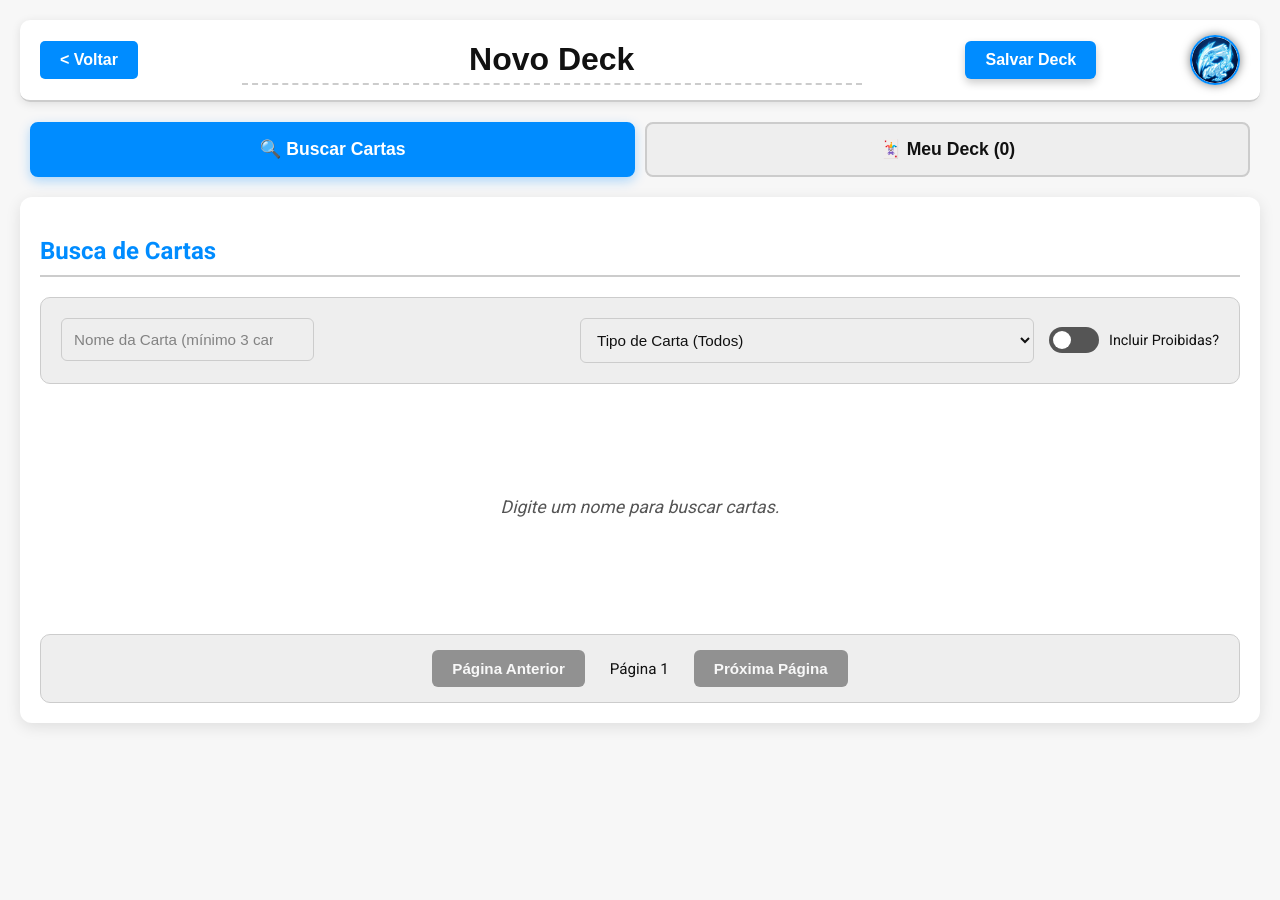
Integração: Criação de Deck › deve exibir mensagem de erro quando a API falha
Type "Dark Magician" into the field with placeholder "Nome da Carta (mínimo 3 caracteres)" at (188, 339), box [61,318,314,361]
Wait 800 ms
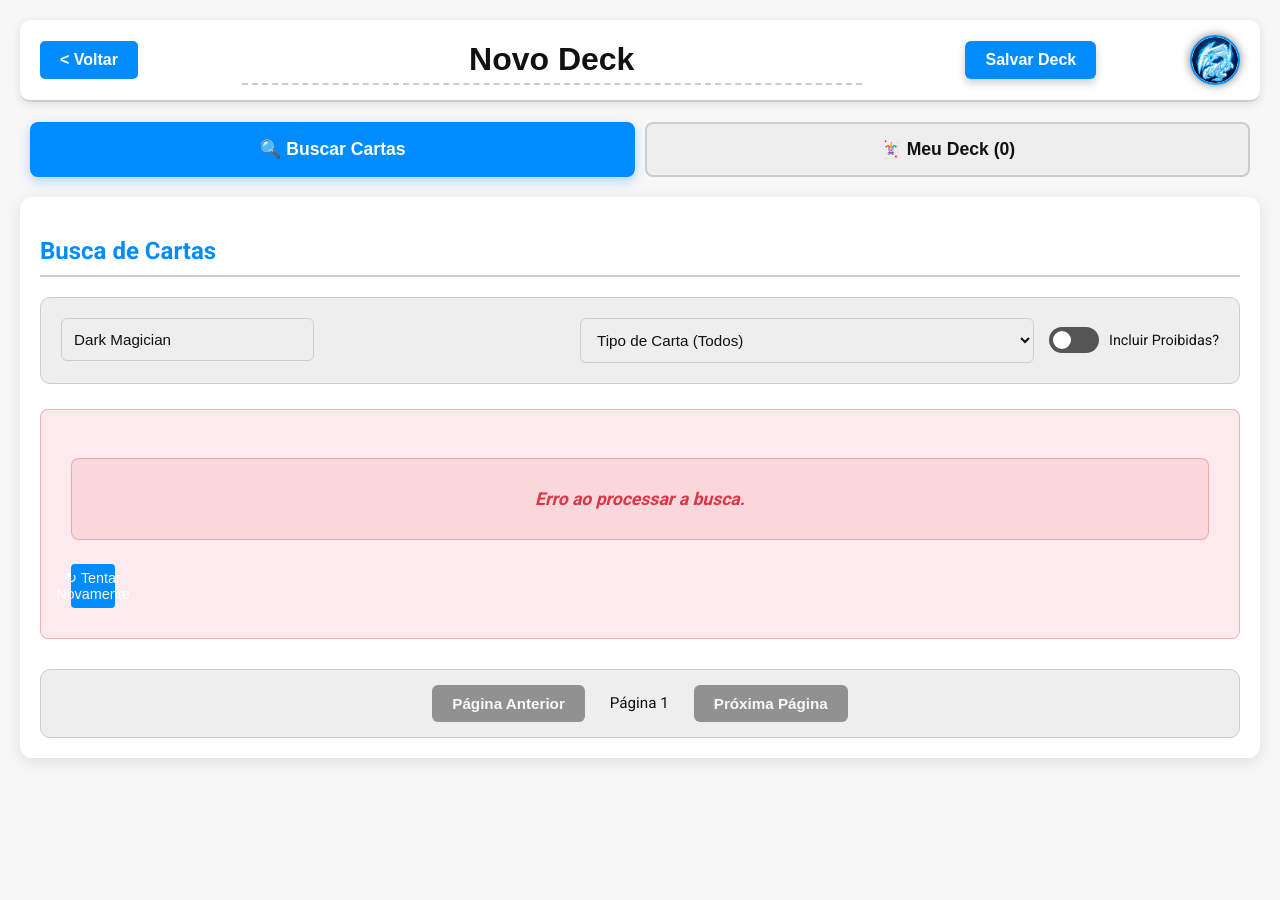
Expected: the text "Erro ao processar a busca." is shown, [71,458,1209,540]
